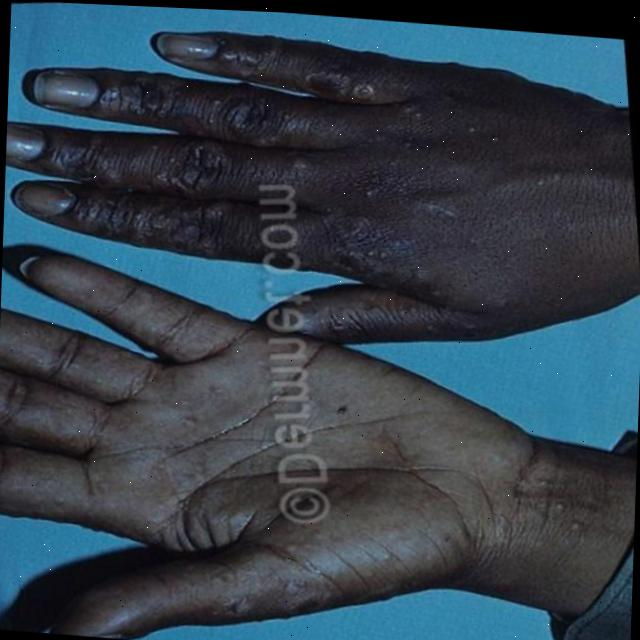Eczema: (1, 38, 488, 616)
